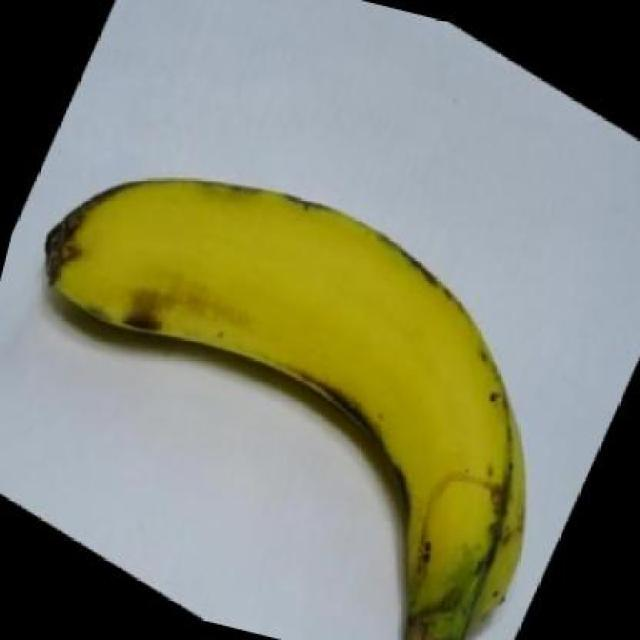ripe: (33, 152, 556, 640)
